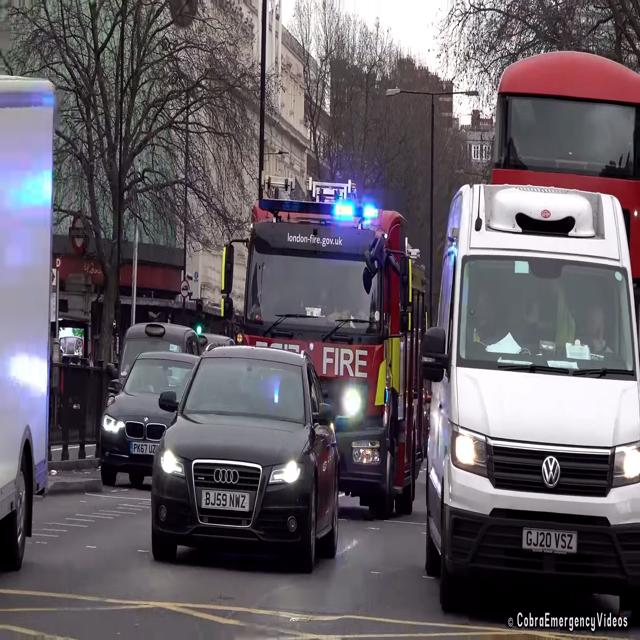emergency-vehicles: (432, 172, 640, 605), (209, 188, 432, 520)
